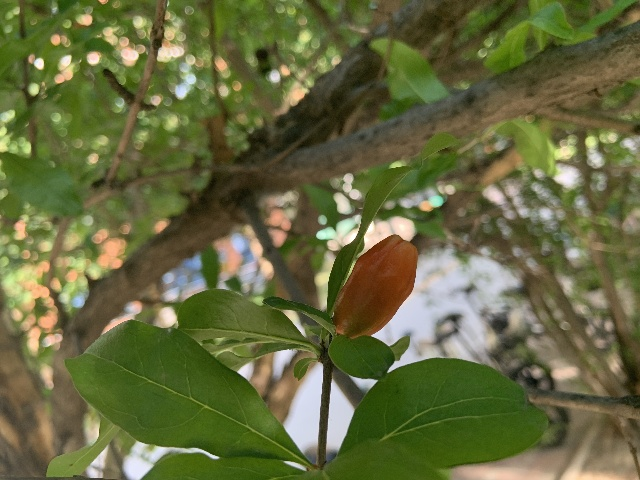bud: (333, 233, 417, 339)
